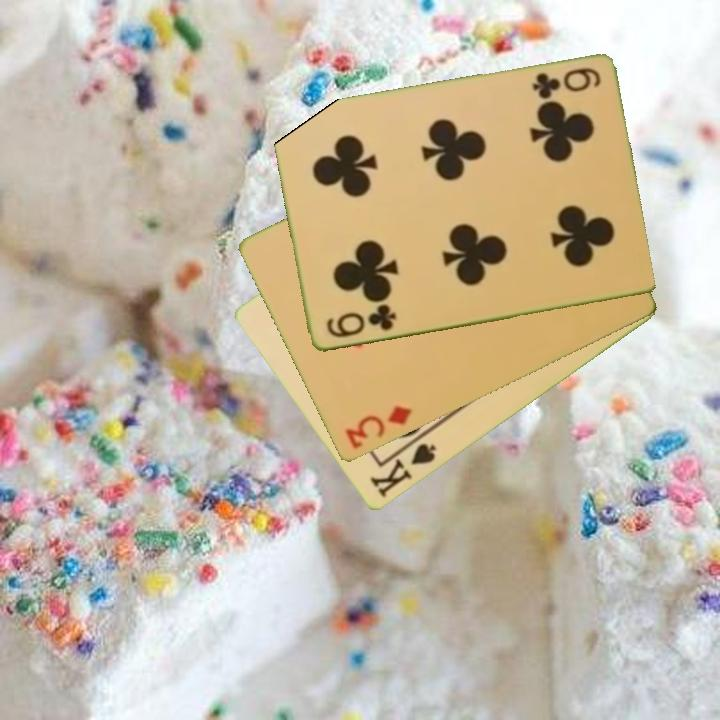3d: (342, 402, 414, 452)
6c: (322, 303, 399, 342), (528, 64, 603, 102)
Ks: (366, 431, 440, 502)
